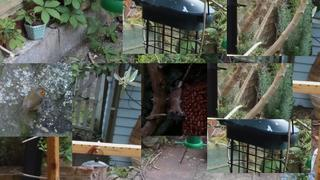mouse: (167, 87, 183, 116)
robin: (20, 87, 48, 118)
